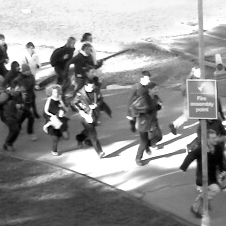person: (183, 129, 224, 220), (172, 73, 223, 131), (77, 79, 111, 159), (134, 83, 162, 166), (76, 67, 110, 128), (42, 83, 70, 156), (14, 65, 40, 140), (128, 69, 155, 130), (2, 81, 24, 153), (53, 35, 75, 85), (19, 42, 40, 82), (69, 43, 102, 68), (3, 60, 21, 90), (1, 34, 8, 76), (78, 32, 95, 47)
